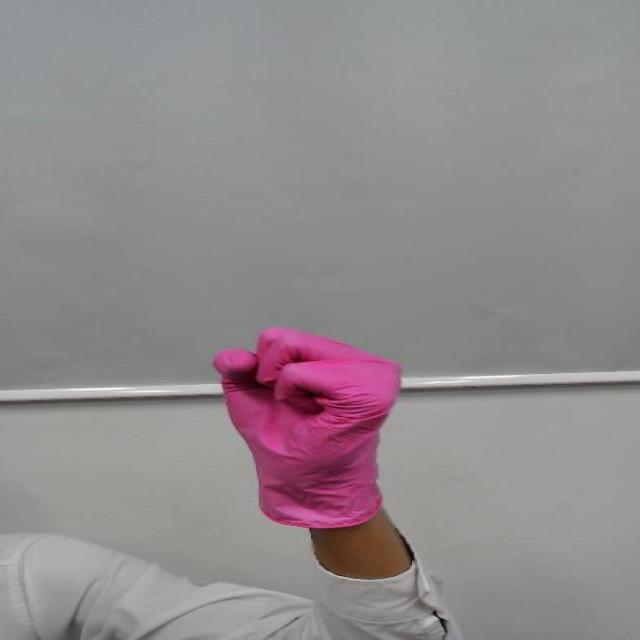gloved_hand: (191, 315, 428, 469)
